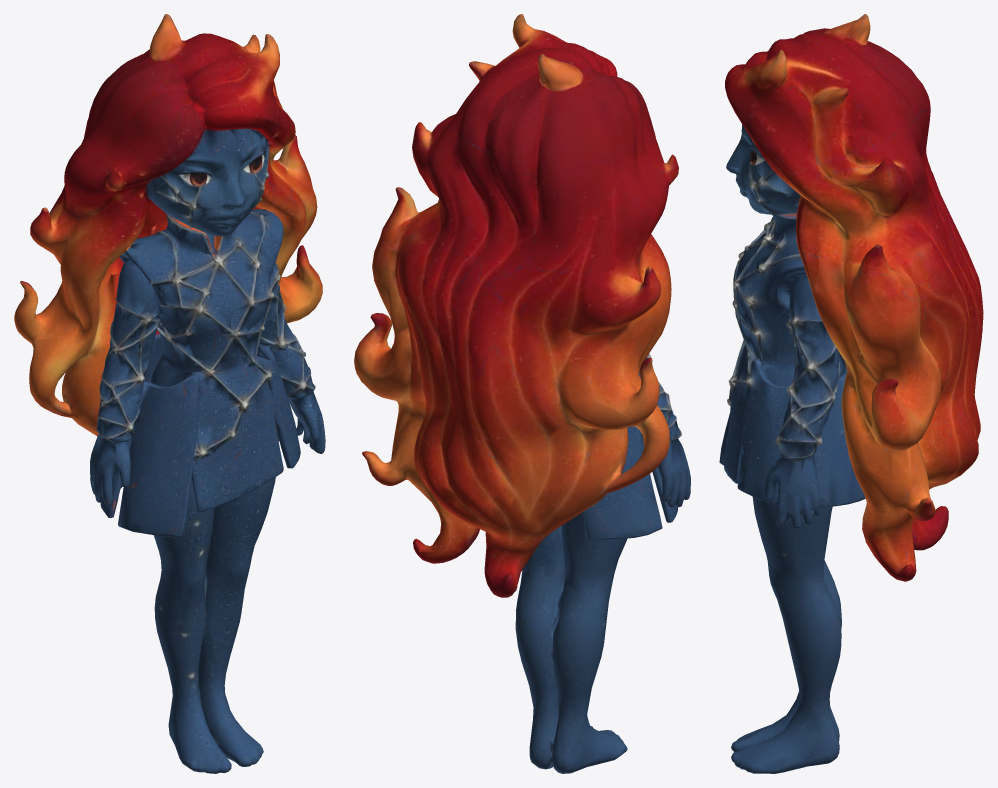
Rendered from fanal.glb.
The picture shows the model from 3 angles, left to right: view 1: azimuth 30°, elevation 25°; view 2: azimuth 150°, elevation 25°; view 3: azimuth 270°, elevation 25°; orthographic projection. The views are drawn at different scales.
Bounding box in the file's own units: 0.828 × 1.9 × 0.6138.
1 material, 1 textured.
